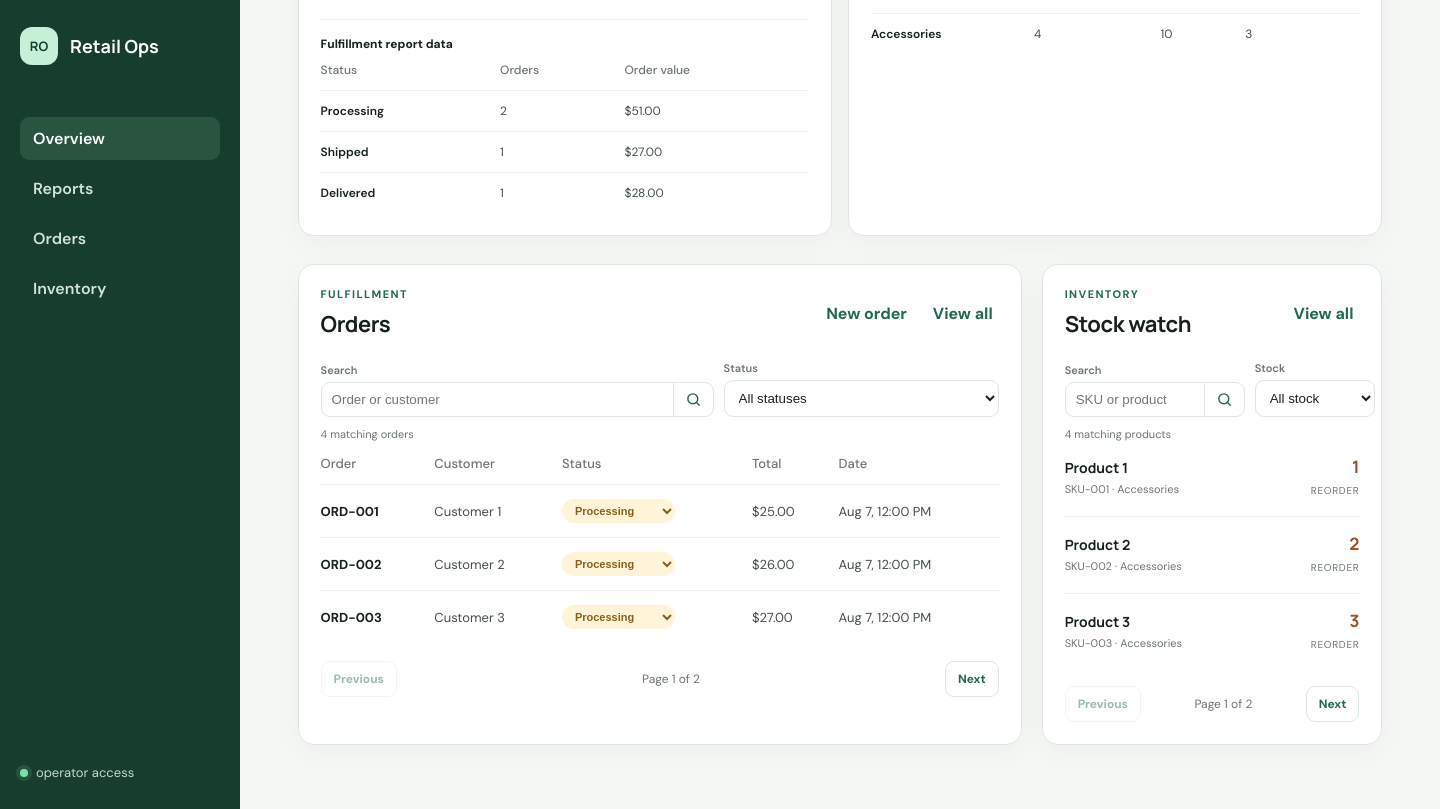
Scenario: App › updates fulfillment status from the orders table
(page scrolled)
Expected: the text "ORD-001" is shown, left=321, top=484, right=434, bottom=538
Select "Shipped" in the dropdown named "Update status for ORD-001". click: (618, 511)
box: left=562, top=499, right=675, bottom=523
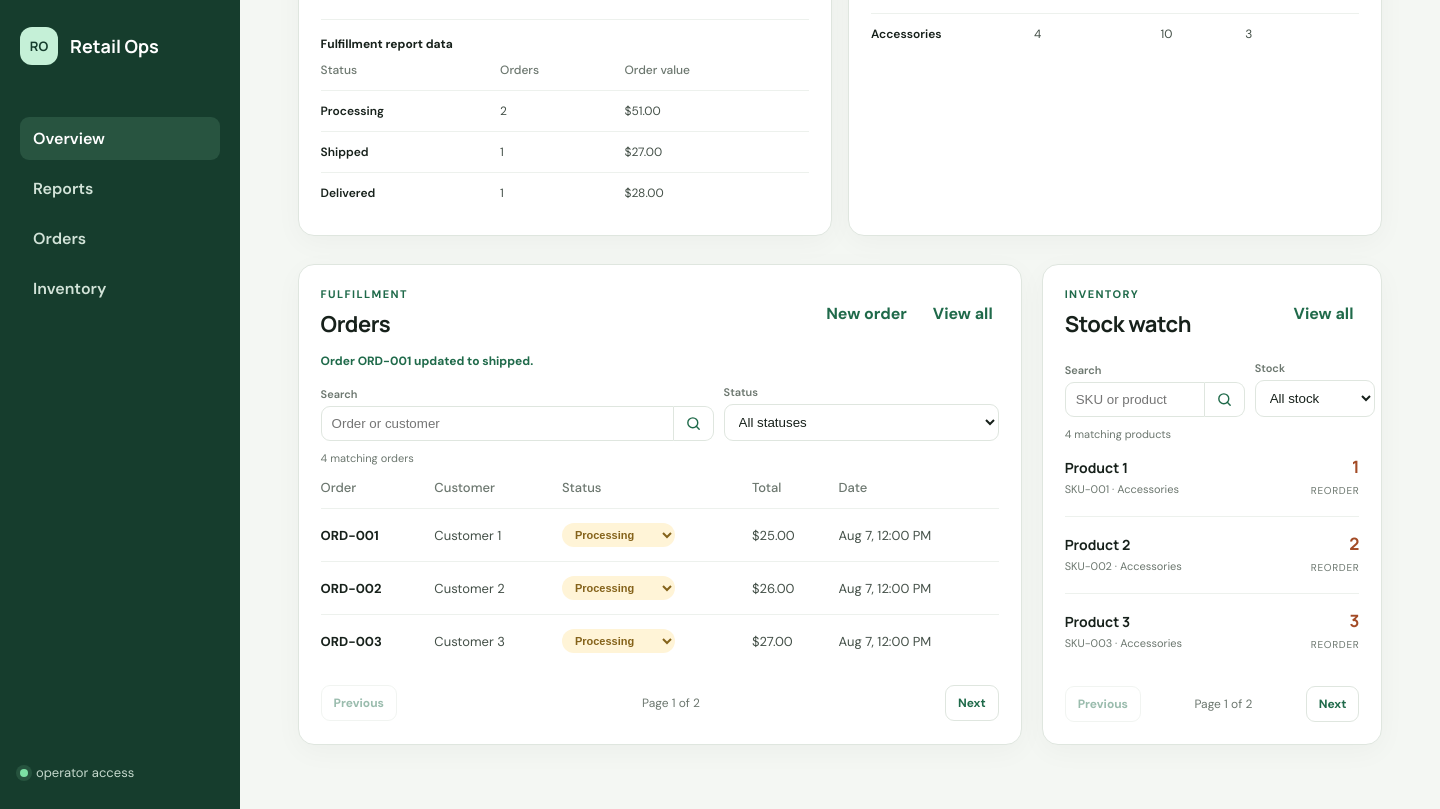
Expected: the message reads "Order ORD-001 updated to shipped.", left=321, top=353, right=533, bottom=369
